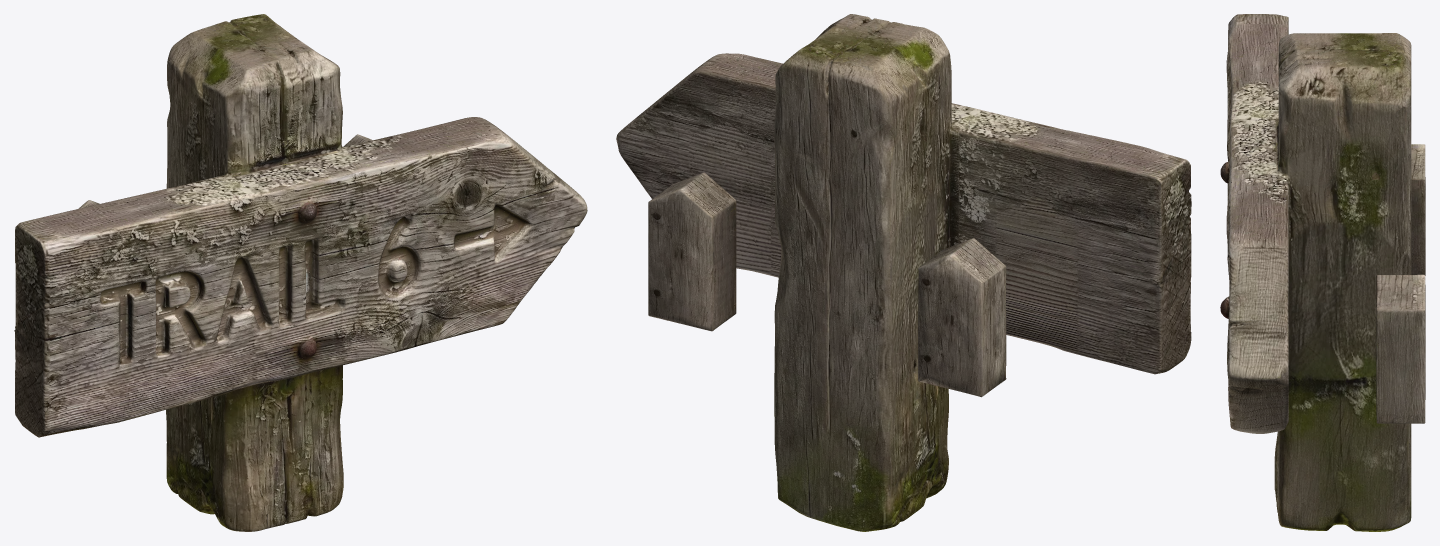
The model's file is trail_sign.glb.
The picture shows the model from 3 angles, left to right: view 1: azimuth 30°, elevation 25°; view 2: azimuth 150°, elevation 25°; view 3: azimuth 270°, elevation 25°; orthographic projection.
Visible parts, largest first — view 1: Mesh_0; view 2: Mesh_0; view 3: Mesh_0.
Part boxes in pixels (box(x1,y1,x2,y2)): Mesh_0: box(14, 14, 587, 531); Mesh_0: box(616, 14, 1191, 531); Mesh_0: box(1220, 14, 1425, 531).
Bounding box in the file's own units: 1.91 × 1.54 × 0.6196.
Materials: 1 (1 with a texture image).
